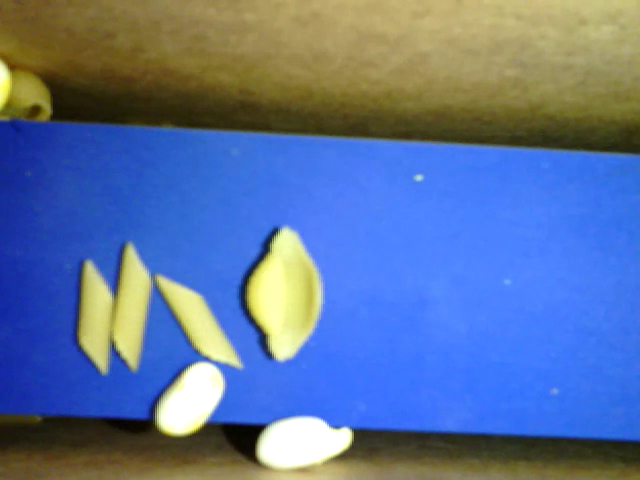penne: (153, 268, 244, 372), (108, 240, 151, 376), (74, 260, 114, 375)
shell: (243, 223, 325, 364), (1, 68, 57, 123)
